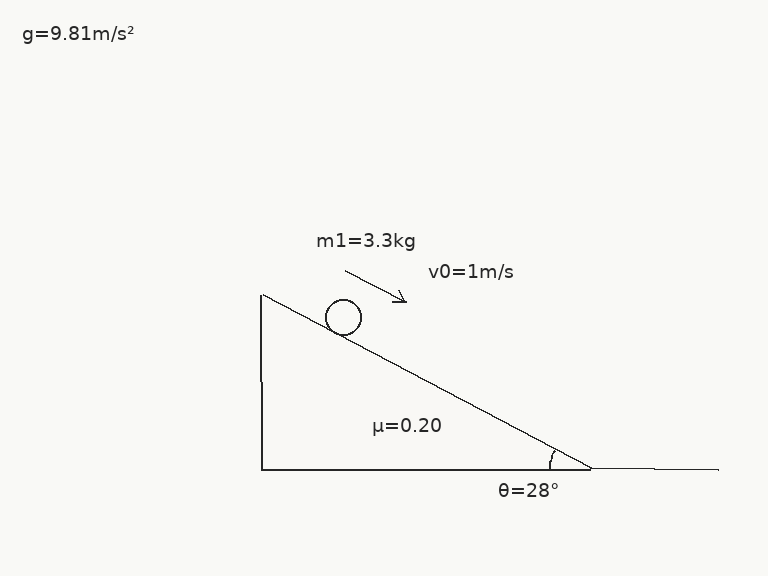ball: (323, 297, 363, 337)
ramp: (260, 292, 592, 471)
